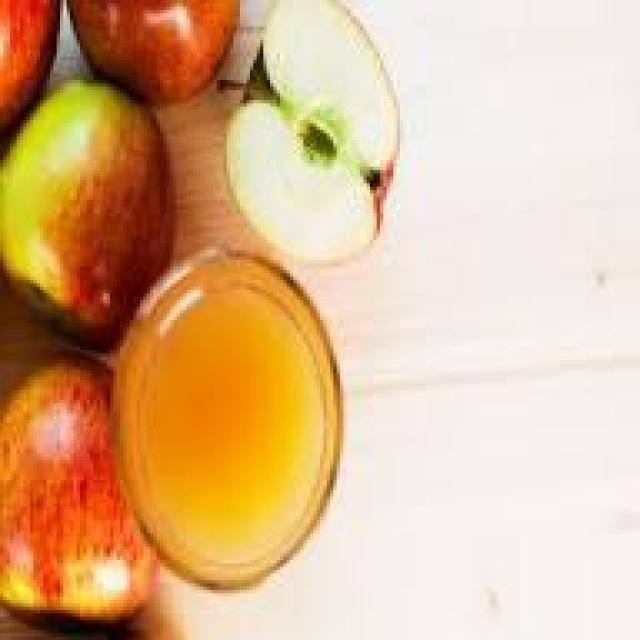apple: (13, 93, 174, 327), (7, 360, 153, 617), (64, 3, 234, 110)
